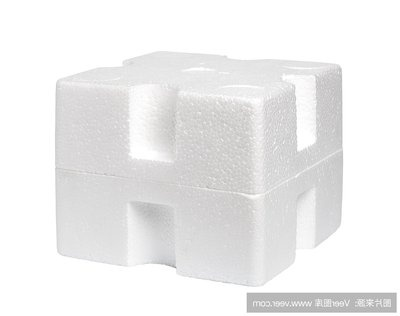5/可回收垃圾/泡沫: (53, 50, 344, 288)
